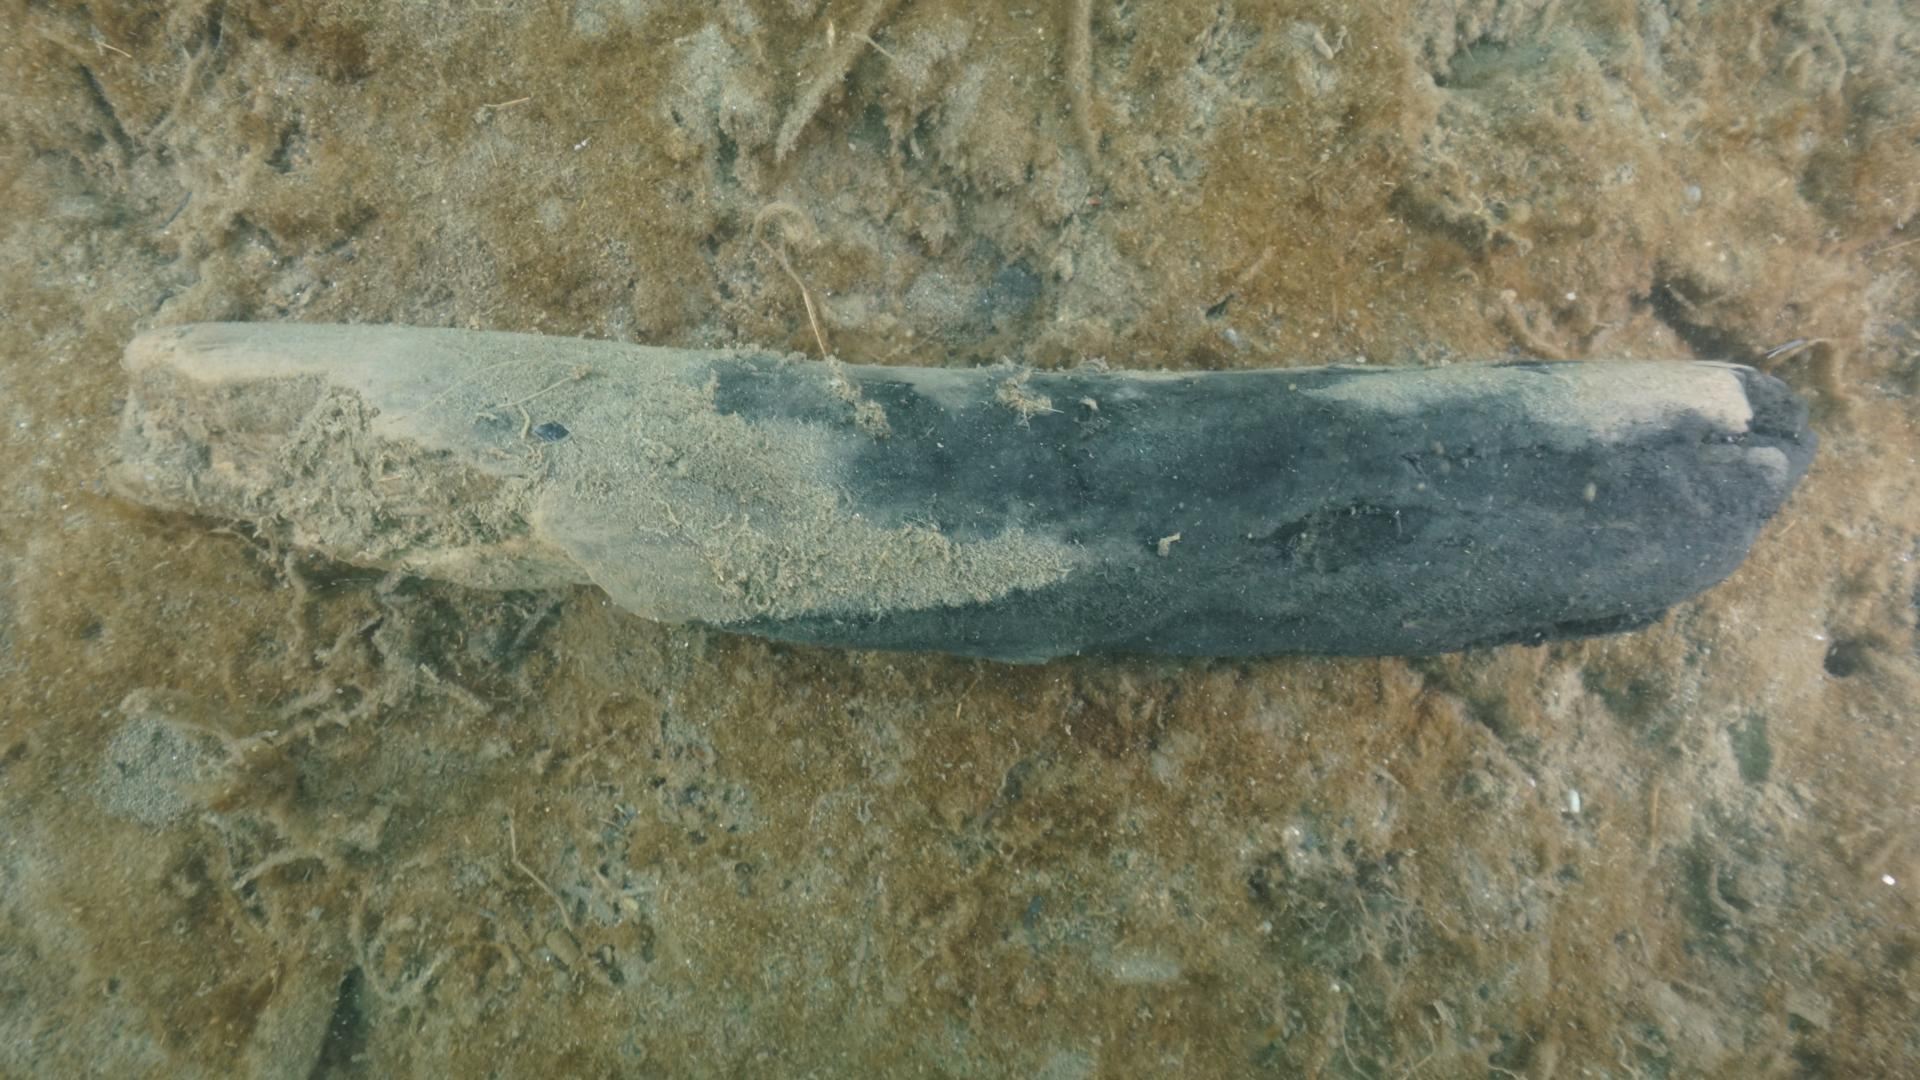wood: (100, 318, 1829, 667)
